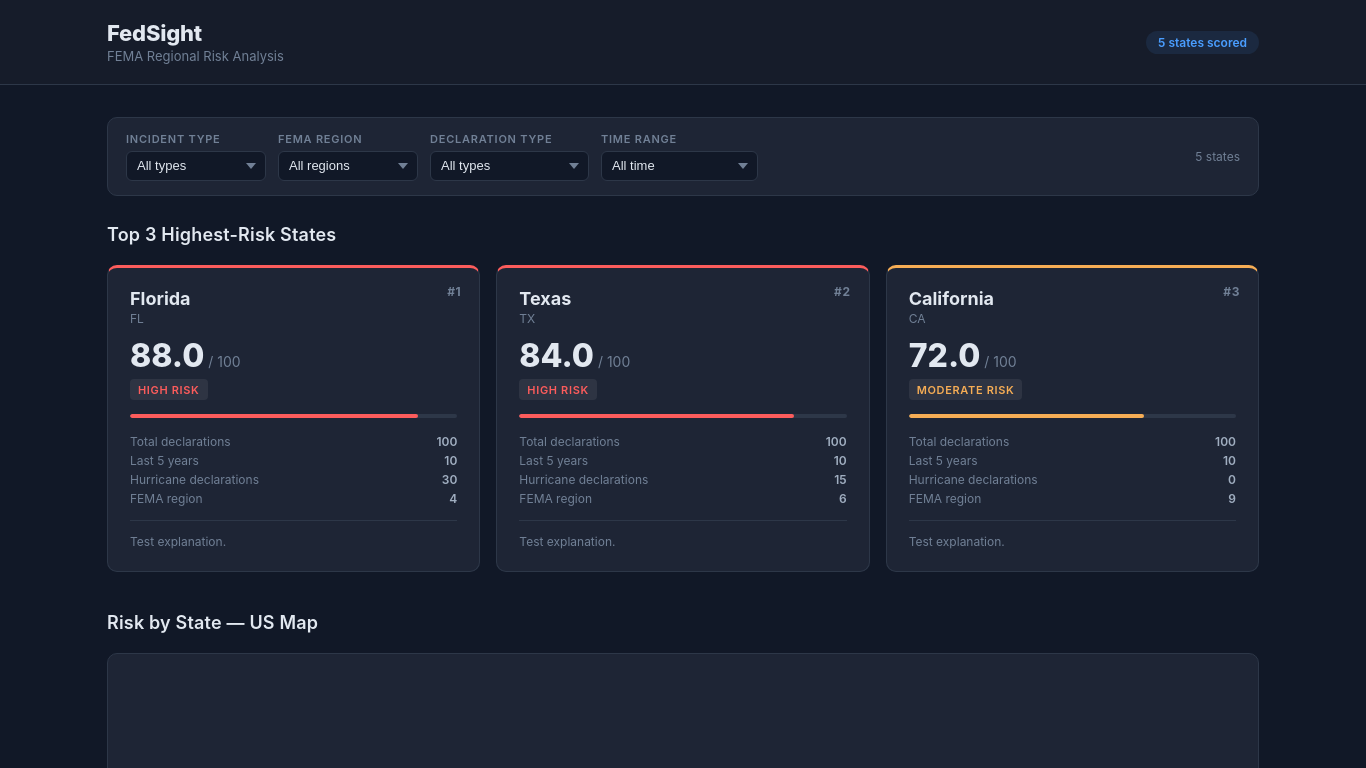
Scenario: App — filter integration › Hurricane + Region 4 returns only Florida
The image size is (1366, 768).
Step 1. Select "Hurricane" in the dropdown labelled "Incident type" → [196, 166], box [126,151,266,181]
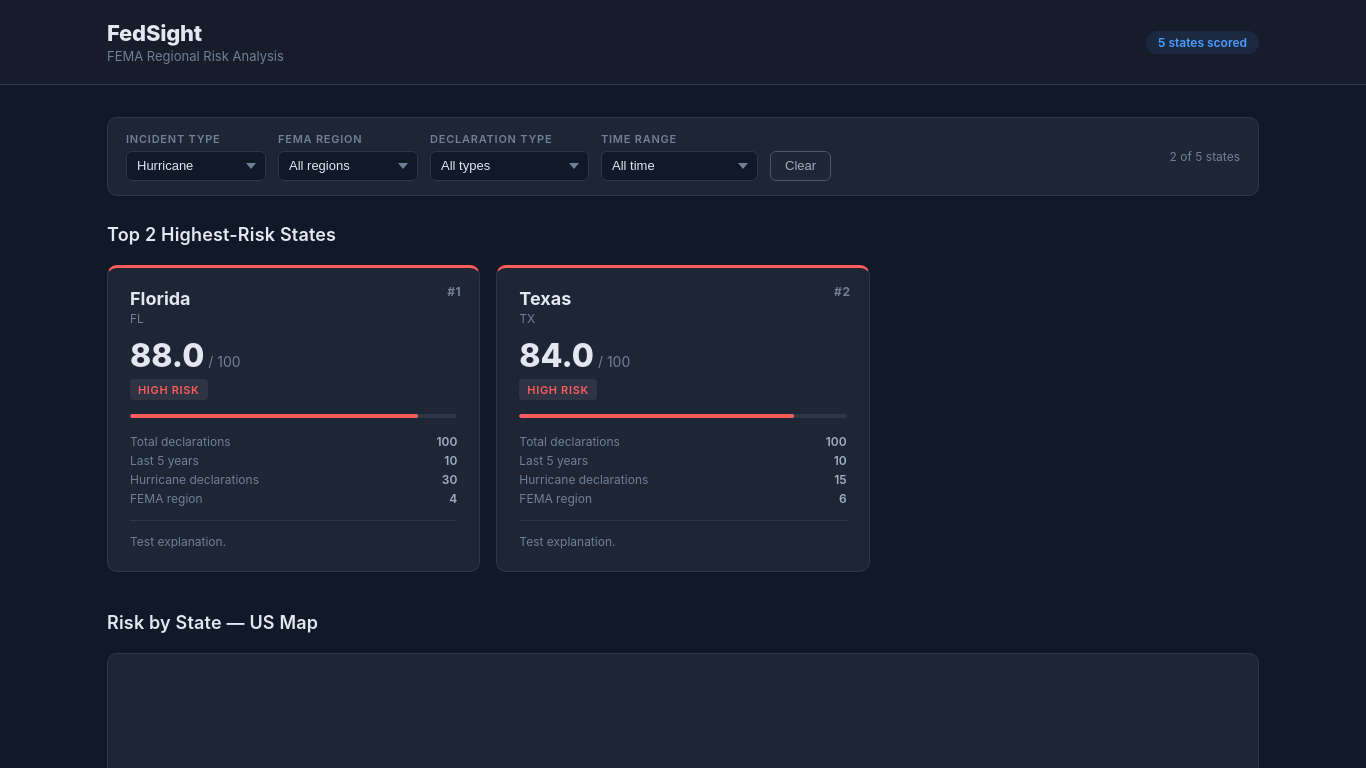
Step 2. Select "Region 4" in the dropdown labelled "FEMA region" → [348, 166], box [278,151,418,181]
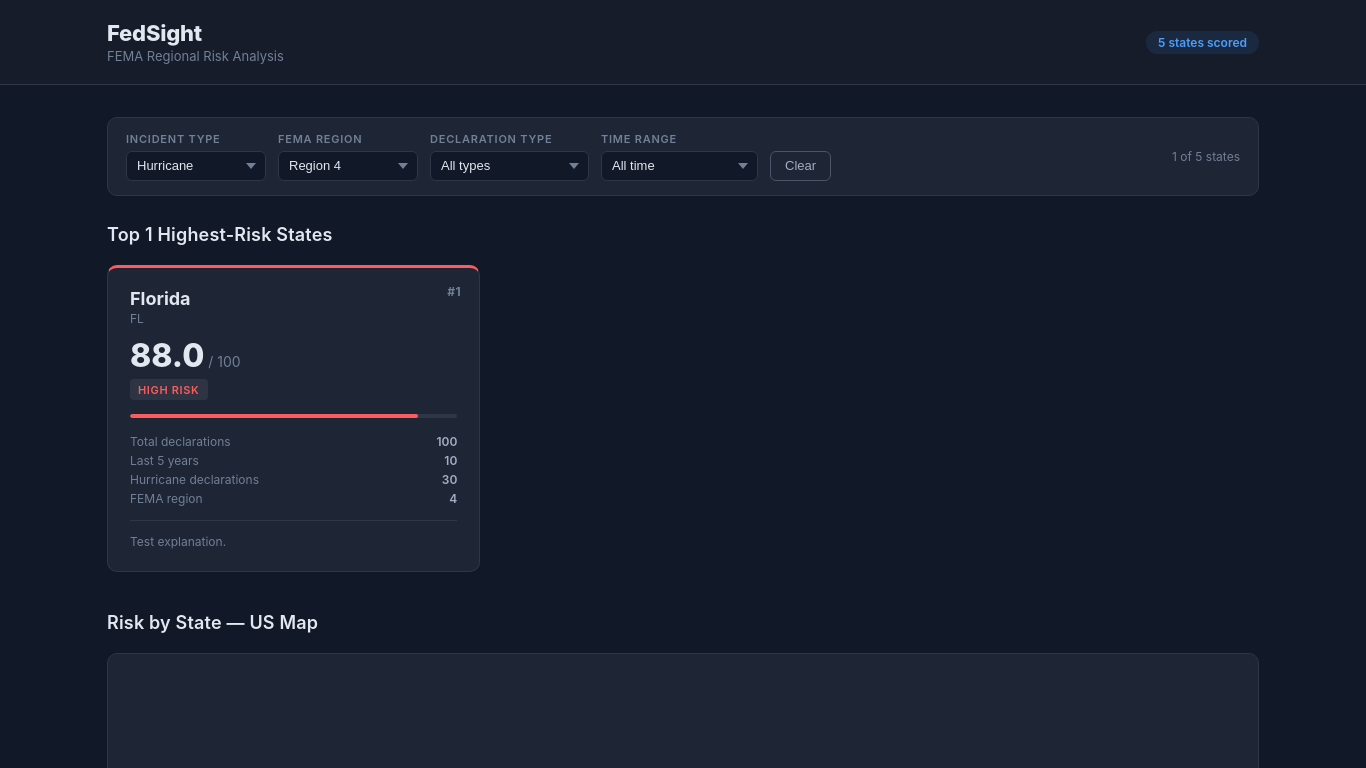
Expected: the text "Florida" is shown, [130,288,191,309]
Expected: the text "Texas" is gone
